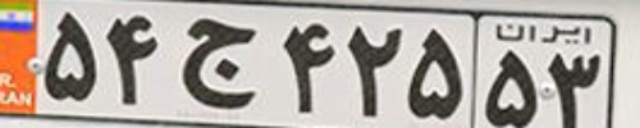2: (347, 27, 401, 119)
3: (547, 49, 599, 127)
4: (104, 15, 158, 105), (282, 22, 335, 113)
5: (408, 27, 462, 118), (43, 11, 97, 100), (483, 49, 541, 127)
jim: (181, 18, 261, 109)
